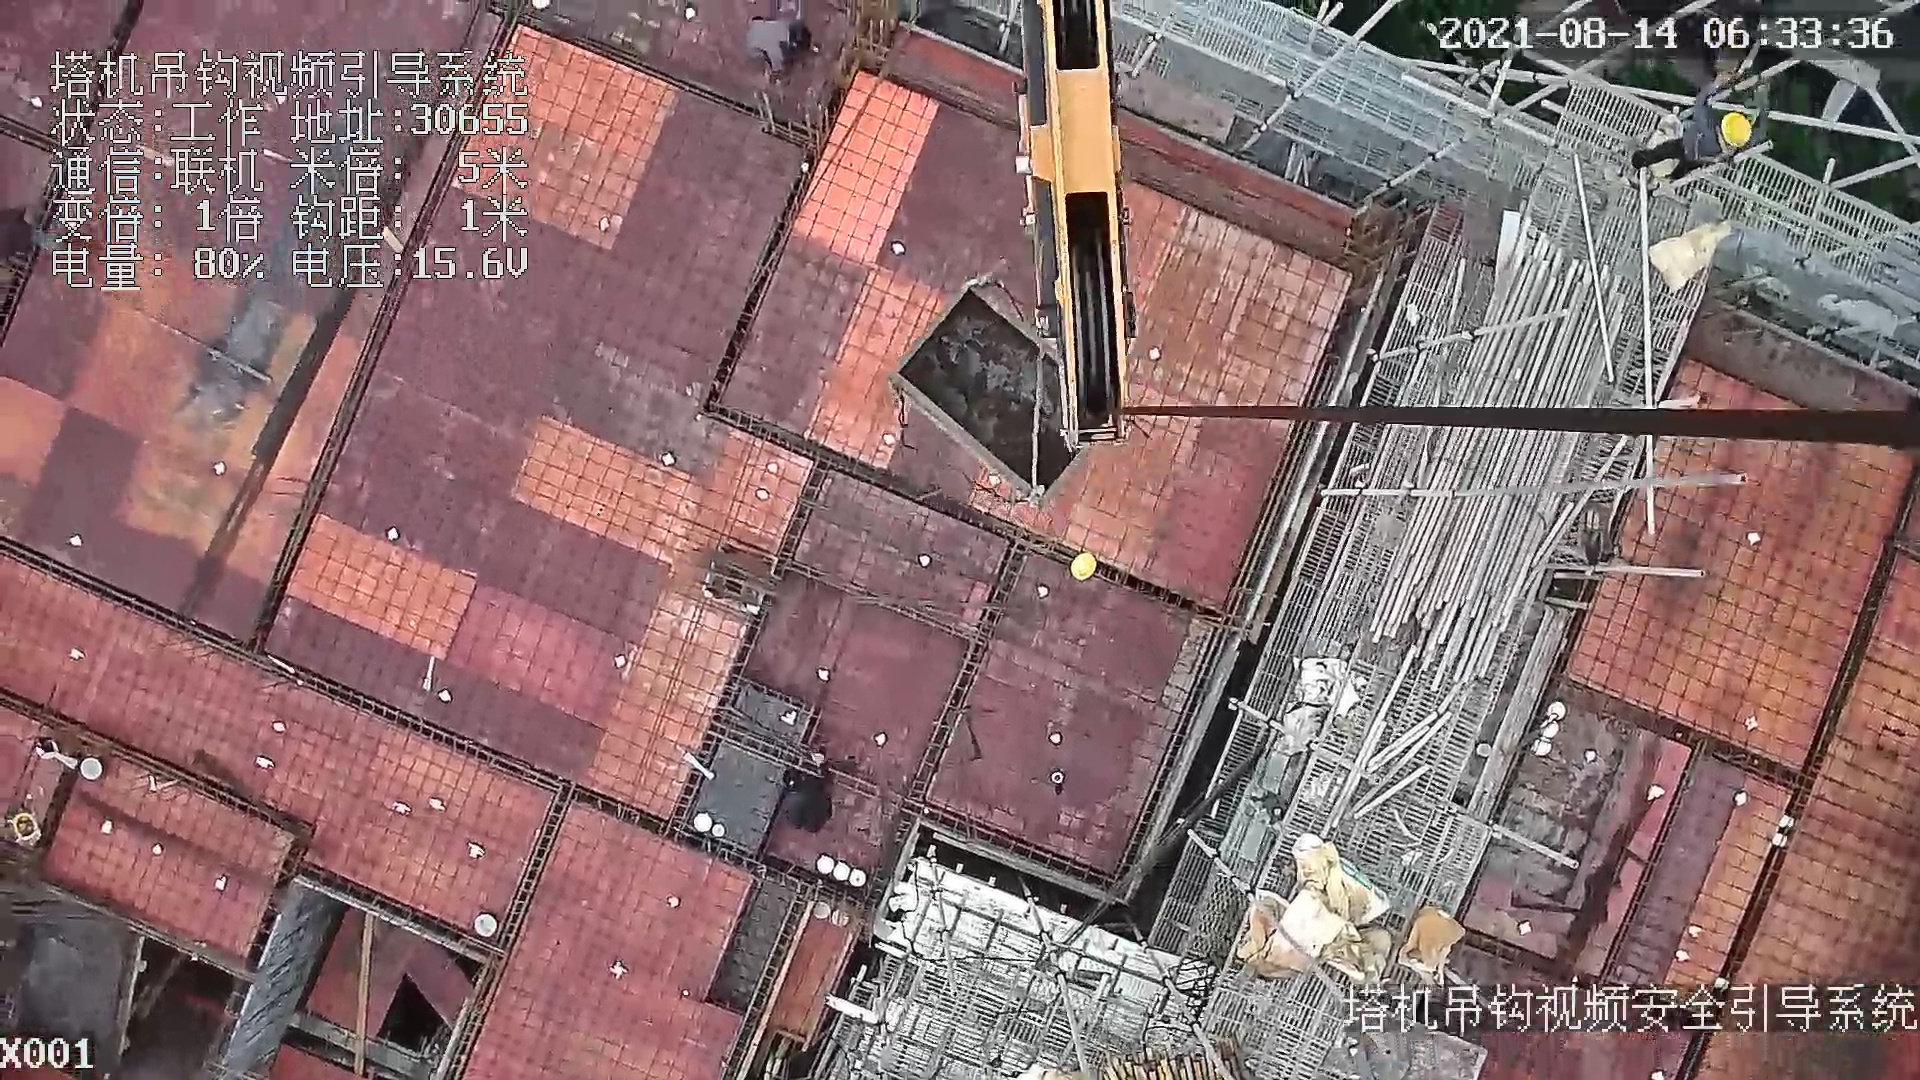helmet: (1723, 109, 1759, 153), (1068, 549, 1105, 587)
hook: (1000, 1, 1135, 439)
hopper: (867, 268, 1104, 508)
person: (1633, 63, 1773, 180), (776, 759, 842, 840)
scaffold: (1395, 199, 1615, 676)
